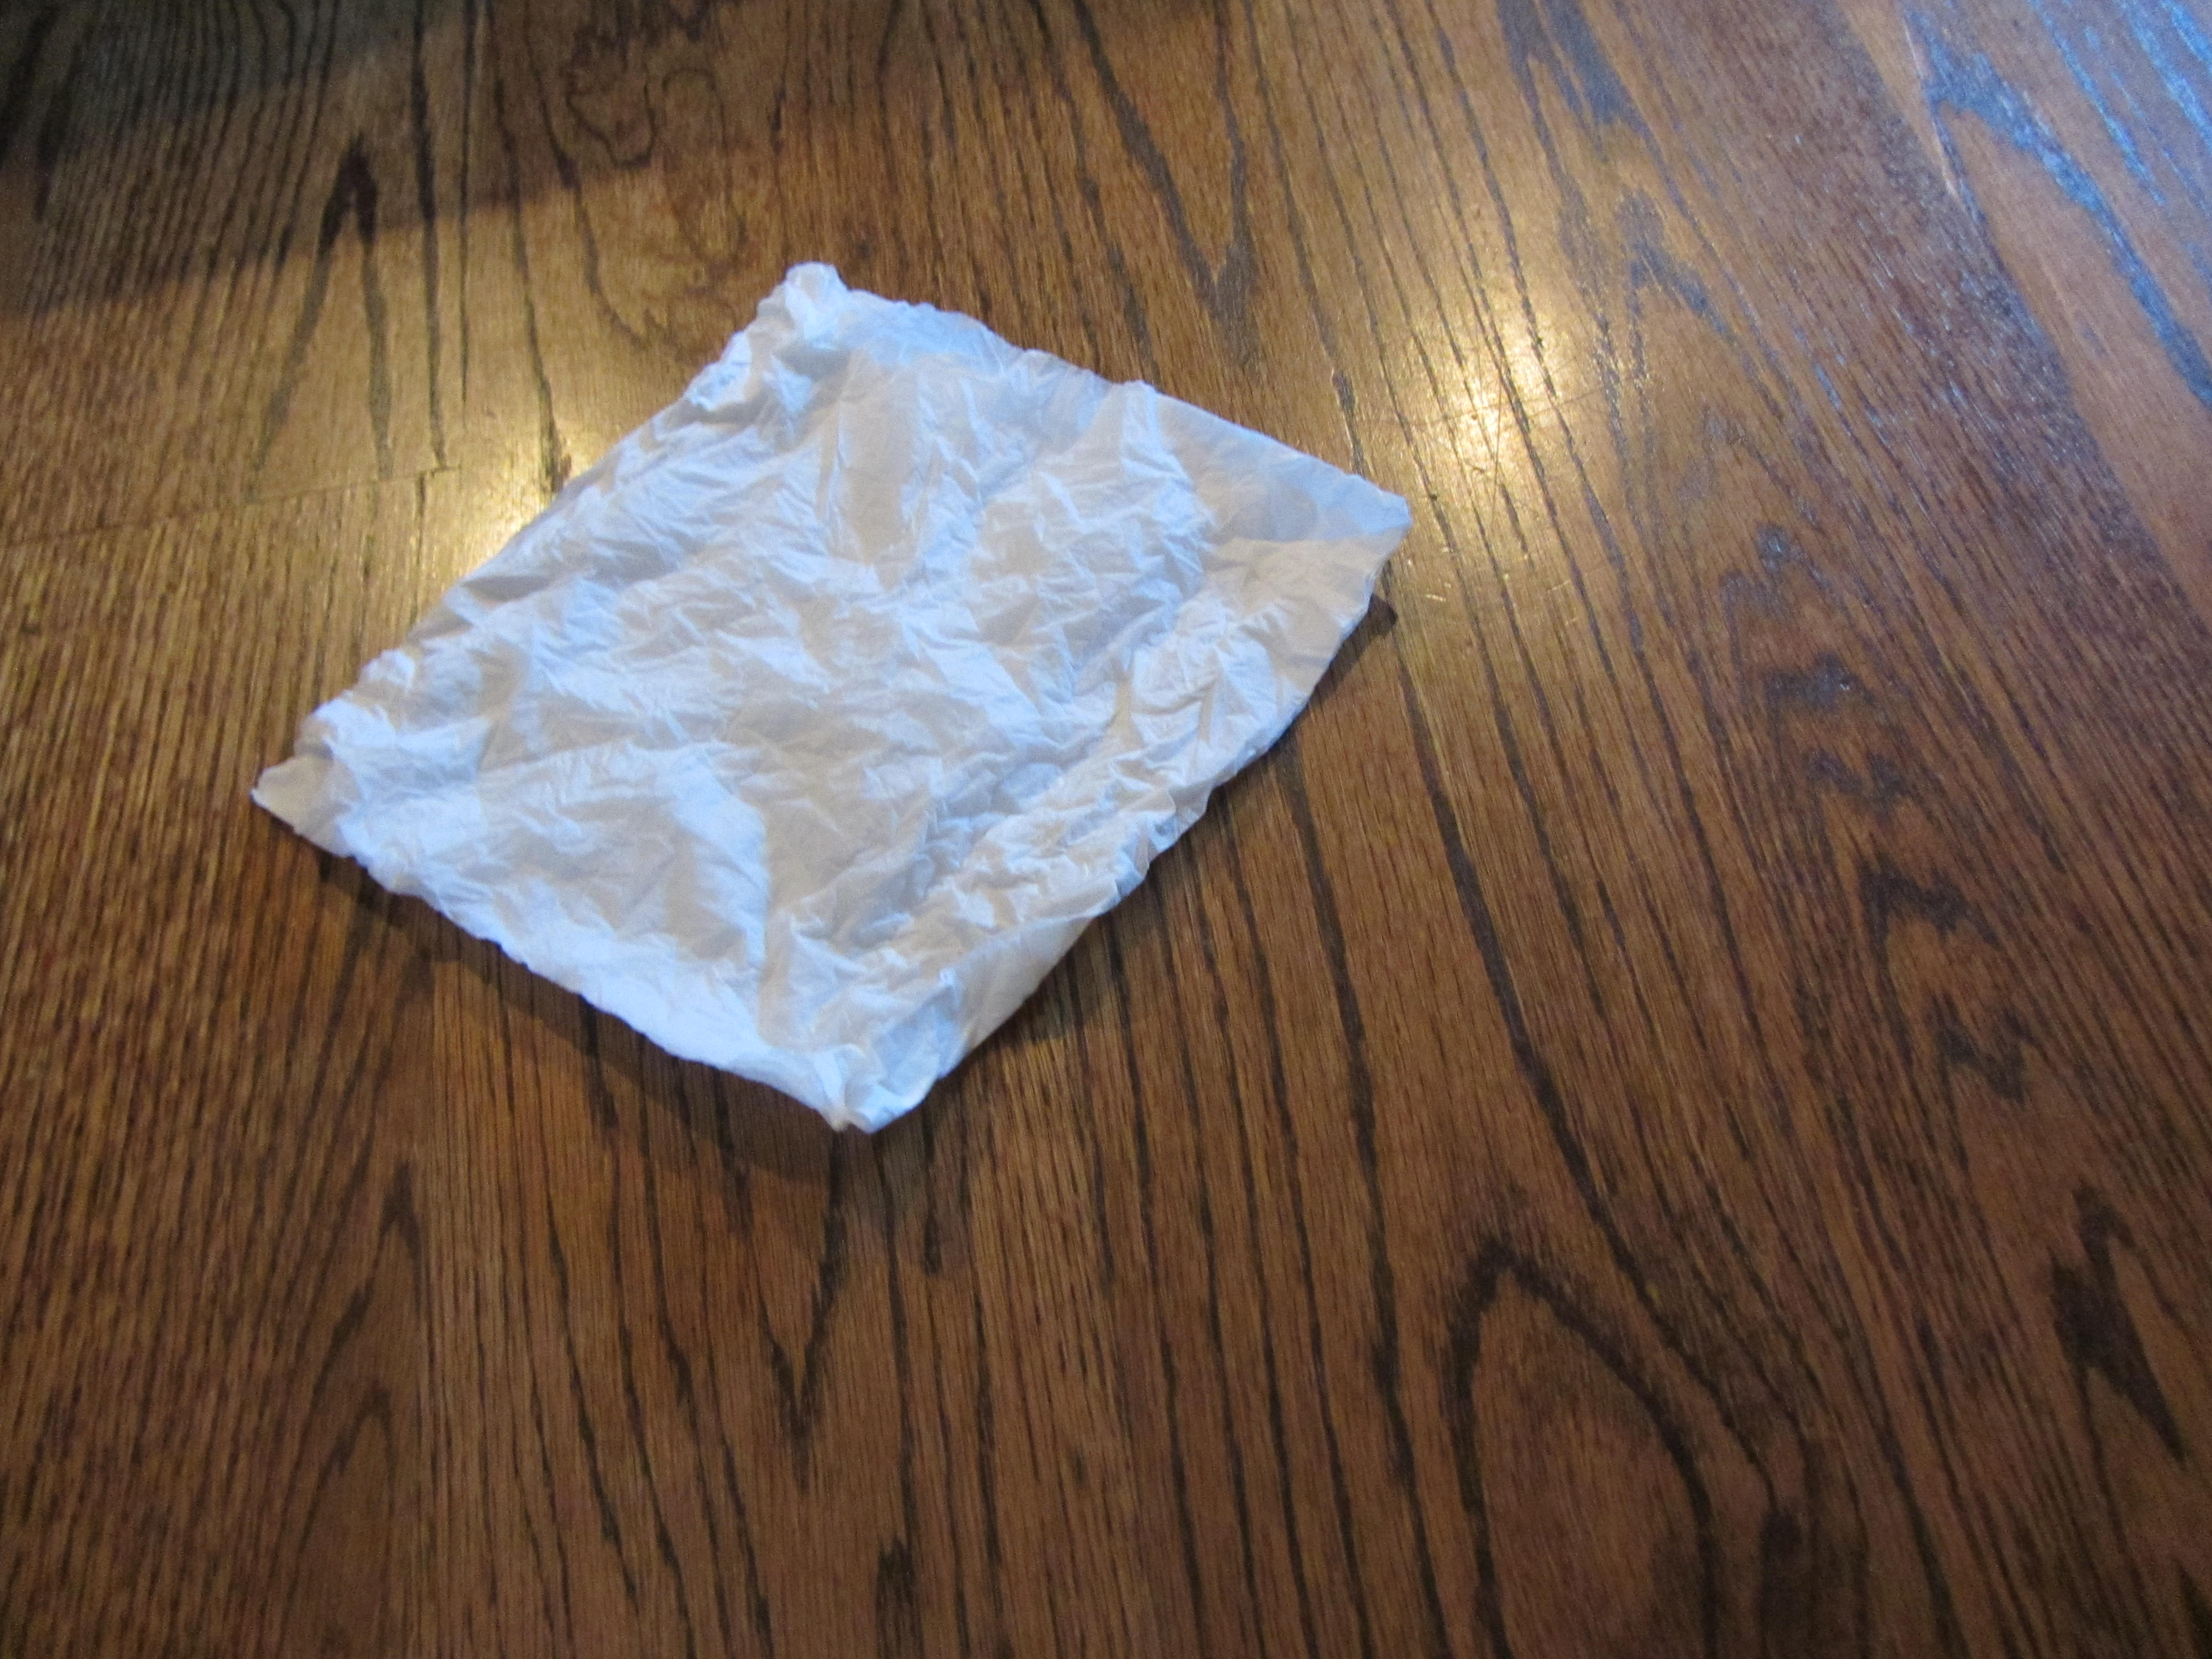tissue: (190, 249, 1446, 1145)
